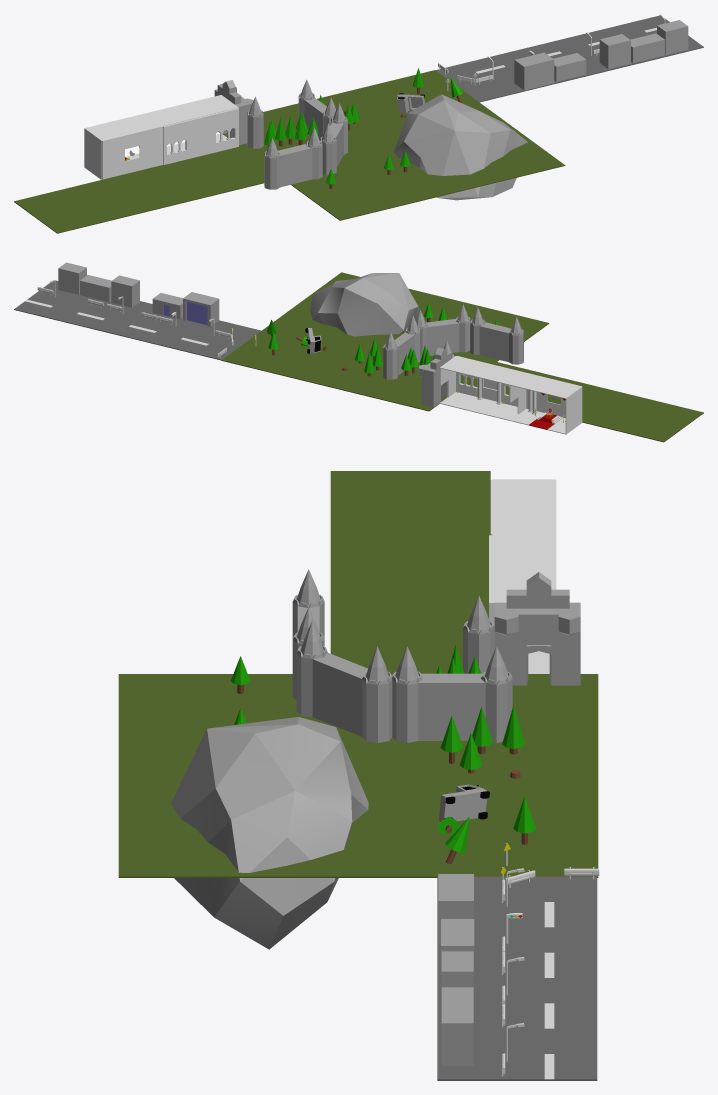
Rendered from Eternal_17v0.5.fbx.
3 renders of one model, top to bottom at view 1: azimuth 30°, elevation 25°; view 2: azimuth 150°, elevation 25°; view 3: azimuth 270°, elevation 25°, orthographic. The views are drawn at different scales.
Parts seen in each view (by area): view 1: pCube33, pCube81, pCube59, pCube83, pCube57, pCube6, pCube72, pCube55, pCube86, pCube56, pCube8, pCube21 (+10 smaller); view 2: pCube33, pCube83, pCube59, pCube81, pCube57, pCube55, pCube56, pCube38, pCube72, pCube71, pCube86, pCube8 (+12 smaller); view 3: pCube33, pCube81, pCube59, pCube83, pCube56, pCube55, pCube38, pCube8, pCube72, pCube99, pCube57, pCube39 (+4 smaller).
Part boxes in pixels (left/top/right/bottom): pCube33: left=218, top=70, right=565, bottom=220; pCube81: left=14, top=146, right=264, bottom=233; pCube59: left=394, top=94, right=527, bottom=200; pCube83: left=436, top=15, right=703, bottom=102; pCube57: left=264, top=127, right=322, bottom=189; pCube6: left=102, top=126, right=162, bottom=179; pCube72: left=146, top=95, right=237, bottom=126; pCube55: left=320, top=103, right=347, bottom=175; pCube86: left=514, top=52, right=554, bottom=90; pCube56: left=298, top=79, right=335, bottom=140; pCube8: left=85, top=113, right=161, bottom=140; pCube21: left=163, top=120, right=189, bottom=164; pCube33: left=221, top=272, right=549, bottom=411; pCube83: left=14, top=280, right=261, bottom=360; pCube59: left=310, top=273, right=419, bottom=336; pCube81: left=466, top=362, right=703, bottom=442; pCube57: left=470, top=307, right=523, bottom=364; pCube55: left=416, top=304, right=470, bottom=357; pCube56: left=383, top=315, right=420, bottom=379; pCube38: left=419, top=347, right=454, bottom=407; pCube72: left=440, top=356, right=524, bottom=385; pCube71: left=440, top=392, right=517, bottom=420; pCube86: left=183, top=292, right=219, bottom=326; pCube8: left=510, top=373, right=581, bottom=398; pCube33: left=118, top=674, right=598, bottom=877; pCube81: left=330, top=471, right=490, bottom=673; pCube59: left=171, top=717, right=368, bottom=949; pCube83: left=437, top=876, right=597, bottom=1080; pCube56: left=392, top=646, right=512, bottom=742; pCube55: left=296, top=620, right=392, bottom=742; pCube38: left=494, top=572, right=580, bottom=685; pCube8: left=492, top=479, right=556, bottom=533; pCube72: left=492, top=534, right=556, bottom=602; pCube99: left=441, top=1003, right=473, bottom=1066; pCube57: left=292, top=569, right=324, bottom=700; pCube39: left=463, top=596, right=494, bottom=673.
Bounding box in the file's own units: 900 × 132 × 301.
